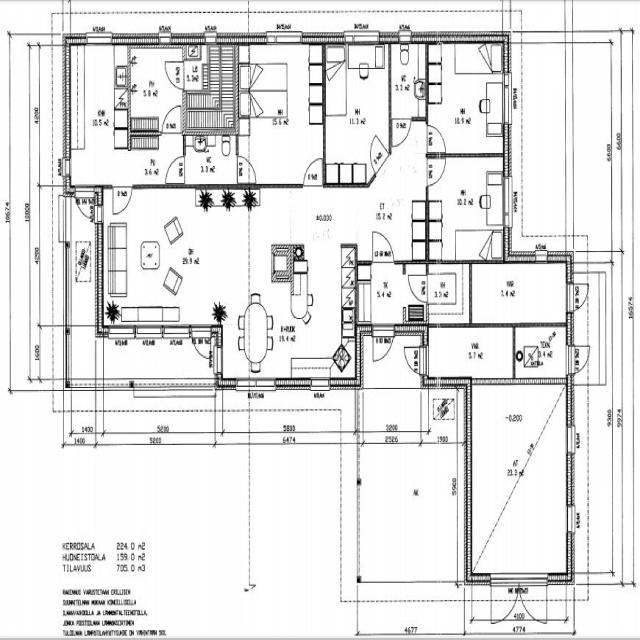door: (492, 578, 522, 624), (371, 323, 396, 365), (369, 226, 396, 264), (406, 266, 430, 304), (190, 325, 212, 361), (390, 114, 412, 148), (163, 153, 187, 184), (111, 183, 133, 216), (568, 342, 590, 375), (425, 154, 447, 186), (75, 186, 96, 219), (403, 342, 424, 375), (425, 124, 448, 154), (160, 103, 182, 134), (302, 155, 324, 186), (164, 60, 186, 90), (236, 152, 258, 182), (571, 282, 589, 312), (565, 282, 582, 312)
window: (264, 28, 304, 47), (250, 373, 279, 398), (501, 172, 513, 230), (133, 320, 166, 339), (500, 76, 512, 128), (160, 321, 191, 340), (345, 30, 381, 46), (107, 322, 136, 340), (308, 373, 333, 392), (84, 32, 114, 47), (564, 501, 576, 538), (564, 421, 576, 457), (565, 280, 575, 315), (564, 342, 574, 376), (398, 29, 413, 45)
zone: (357, 443, 460, 584), (238, 41, 323, 186), (324, 42, 389, 184), (68, 41, 130, 183), (426, 152, 504, 261), (427, 53, 505, 154), (470, 262, 570, 325), (429, 326, 515, 380), (184, 41, 236, 130), (129, 44, 183, 128), (356, 260, 408, 326), (513, 323, 569, 383), (183, 132, 239, 187), (389, 41, 427, 119), (426, 261, 470, 325), (450, 41, 500, 76)
